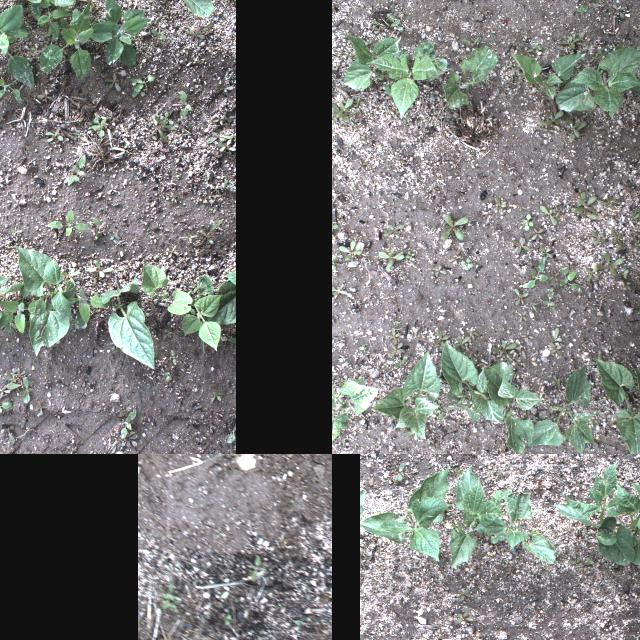crop: (441, 340, 540, 454), (340, 33, 450, 121), (553, 458, 640, 565), (359, 464, 451, 564), (374, 348, 451, 442), (15, 244, 76, 354), (528, 362, 600, 454), (556, 45, 640, 121), (446, 464, 504, 570), (474, 492, 556, 564), (101, 276, 153, 368), (592, 355, 640, 454), (442, 44, 500, 110), (332, 378, 383, 449), (509, 50, 585, 96), (182, 274, 222, 350), (142, 264, 192, 314), (200, 269, 234, 327), (0, 282, 25, 344), (133, 0, 213, 16), (21, 0, 72, 22)
weed: (39, 0, 93, 84), (88, 0, 148, 65), (0, 4, 33, 87), (0, 277, 44, 332), (66, 288, 108, 328), (37, 0, 75, 41), (46, 208, 90, 236), (514, 260, 550, 292), (586, 252, 624, 282), (440, 210, 470, 242), (570, 190, 600, 222), (536, 101, 560, 139), (489, 336, 526, 360), (369, 10, 403, 36), (444, 248, 476, 272), (376, 248, 414, 268), (386, 324, 406, 360), (558, 264, 582, 294), (352, 108, 372, 144), (0, 72, 23, 103), (452, 326, 481, 350), (332, 95, 356, 124), (150, 114, 174, 142), (336, 236, 364, 260), (538, 202, 562, 230), (564, 115, 586, 145), (68, 152, 86, 184), (382, 219, 406, 243), (508, 231, 532, 255), (546, 324, 564, 356), (120, 406, 136, 439), (130, 74, 154, 96), (424, 260, 448, 282), (430, 328, 452, 352), (510, 281, 530, 307), (160, 580, 176, 612), (542, 284, 558, 314), (588, 42, 612, 62), (556, 33, 584, 49), (88, 259, 112, 277), (520, 36, 544, 54), (178, 90, 192, 120), (332, 281, 353, 301), (573, 0, 603, 14), (87, 116, 107, 136), (488, 196, 508, 216), (504, 64, 524, 84), (390, 354, 408, 376), (586, 228, 608, 246), (18, 376, 32, 404), (386, 151, 410, 167), (250, 556, 264, 582), (511, 308, 531, 326), (454, 606, 474, 624), (623, 205, 640, 226), (514, 328, 536, 344), (610, 1, 626, 23), (208, 130, 232, 144), (620, 266, 634, 290), (459, 35, 483, 49), (43, 126, 63, 142), (611, 227, 627, 247), (600, 22, 620, 38), (285, 613, 305, 629), (92, 216, 102, 246), (7, 366, 25, 382), (36, 86, 54, 102), (388, 462, 404, 480), (0, 424, 14, 444), (520, 210, 534, 230), (536, 244, 556, 258), (548, 371, 562, 391), (103, 75, 119, 91), (496, 12, 512, 28), (0, 395, 12, 416), (532, 222, 546, 240), (598, 198, 622, 208), (200, 228, 214, 244), (332, 211, 339, 242), (216, 139, 234, 151), (355, 156, 367, 174), (629, 233, 640, 252), (126, 431, 138, 447), (528, 296, 540, 312), (160, 112, 173, 126), (186, 30, 204, 40), (332, 253, 341, 273), (404, 119, 422, 129), (428, 181, 438, 199), (35, 400, 47, 414), (634, 8, 640, 36), (226, 422, 234, 442), (151, 28, 167, 38), (166, 245, 178, 258), (456, 588, 469, 600), (633, 255, 640, 275), (212, 114, 224, 125), (6, 382, 22, 390), (63, 268, 79, 276), (0, 384, 10, 396), (170, 349, 177, 365), (210, 391, 220, 402), (108, 183, 118, 193), (388, 295, 398, 305), (482, 297, 492, 307), (332, 0, 340, 12), (222, 616, 234, 624), (212, 220, 222, 228), (635, 300, 640, 315), (163, 370, 170, 380), (0, 177, 4, 186)
